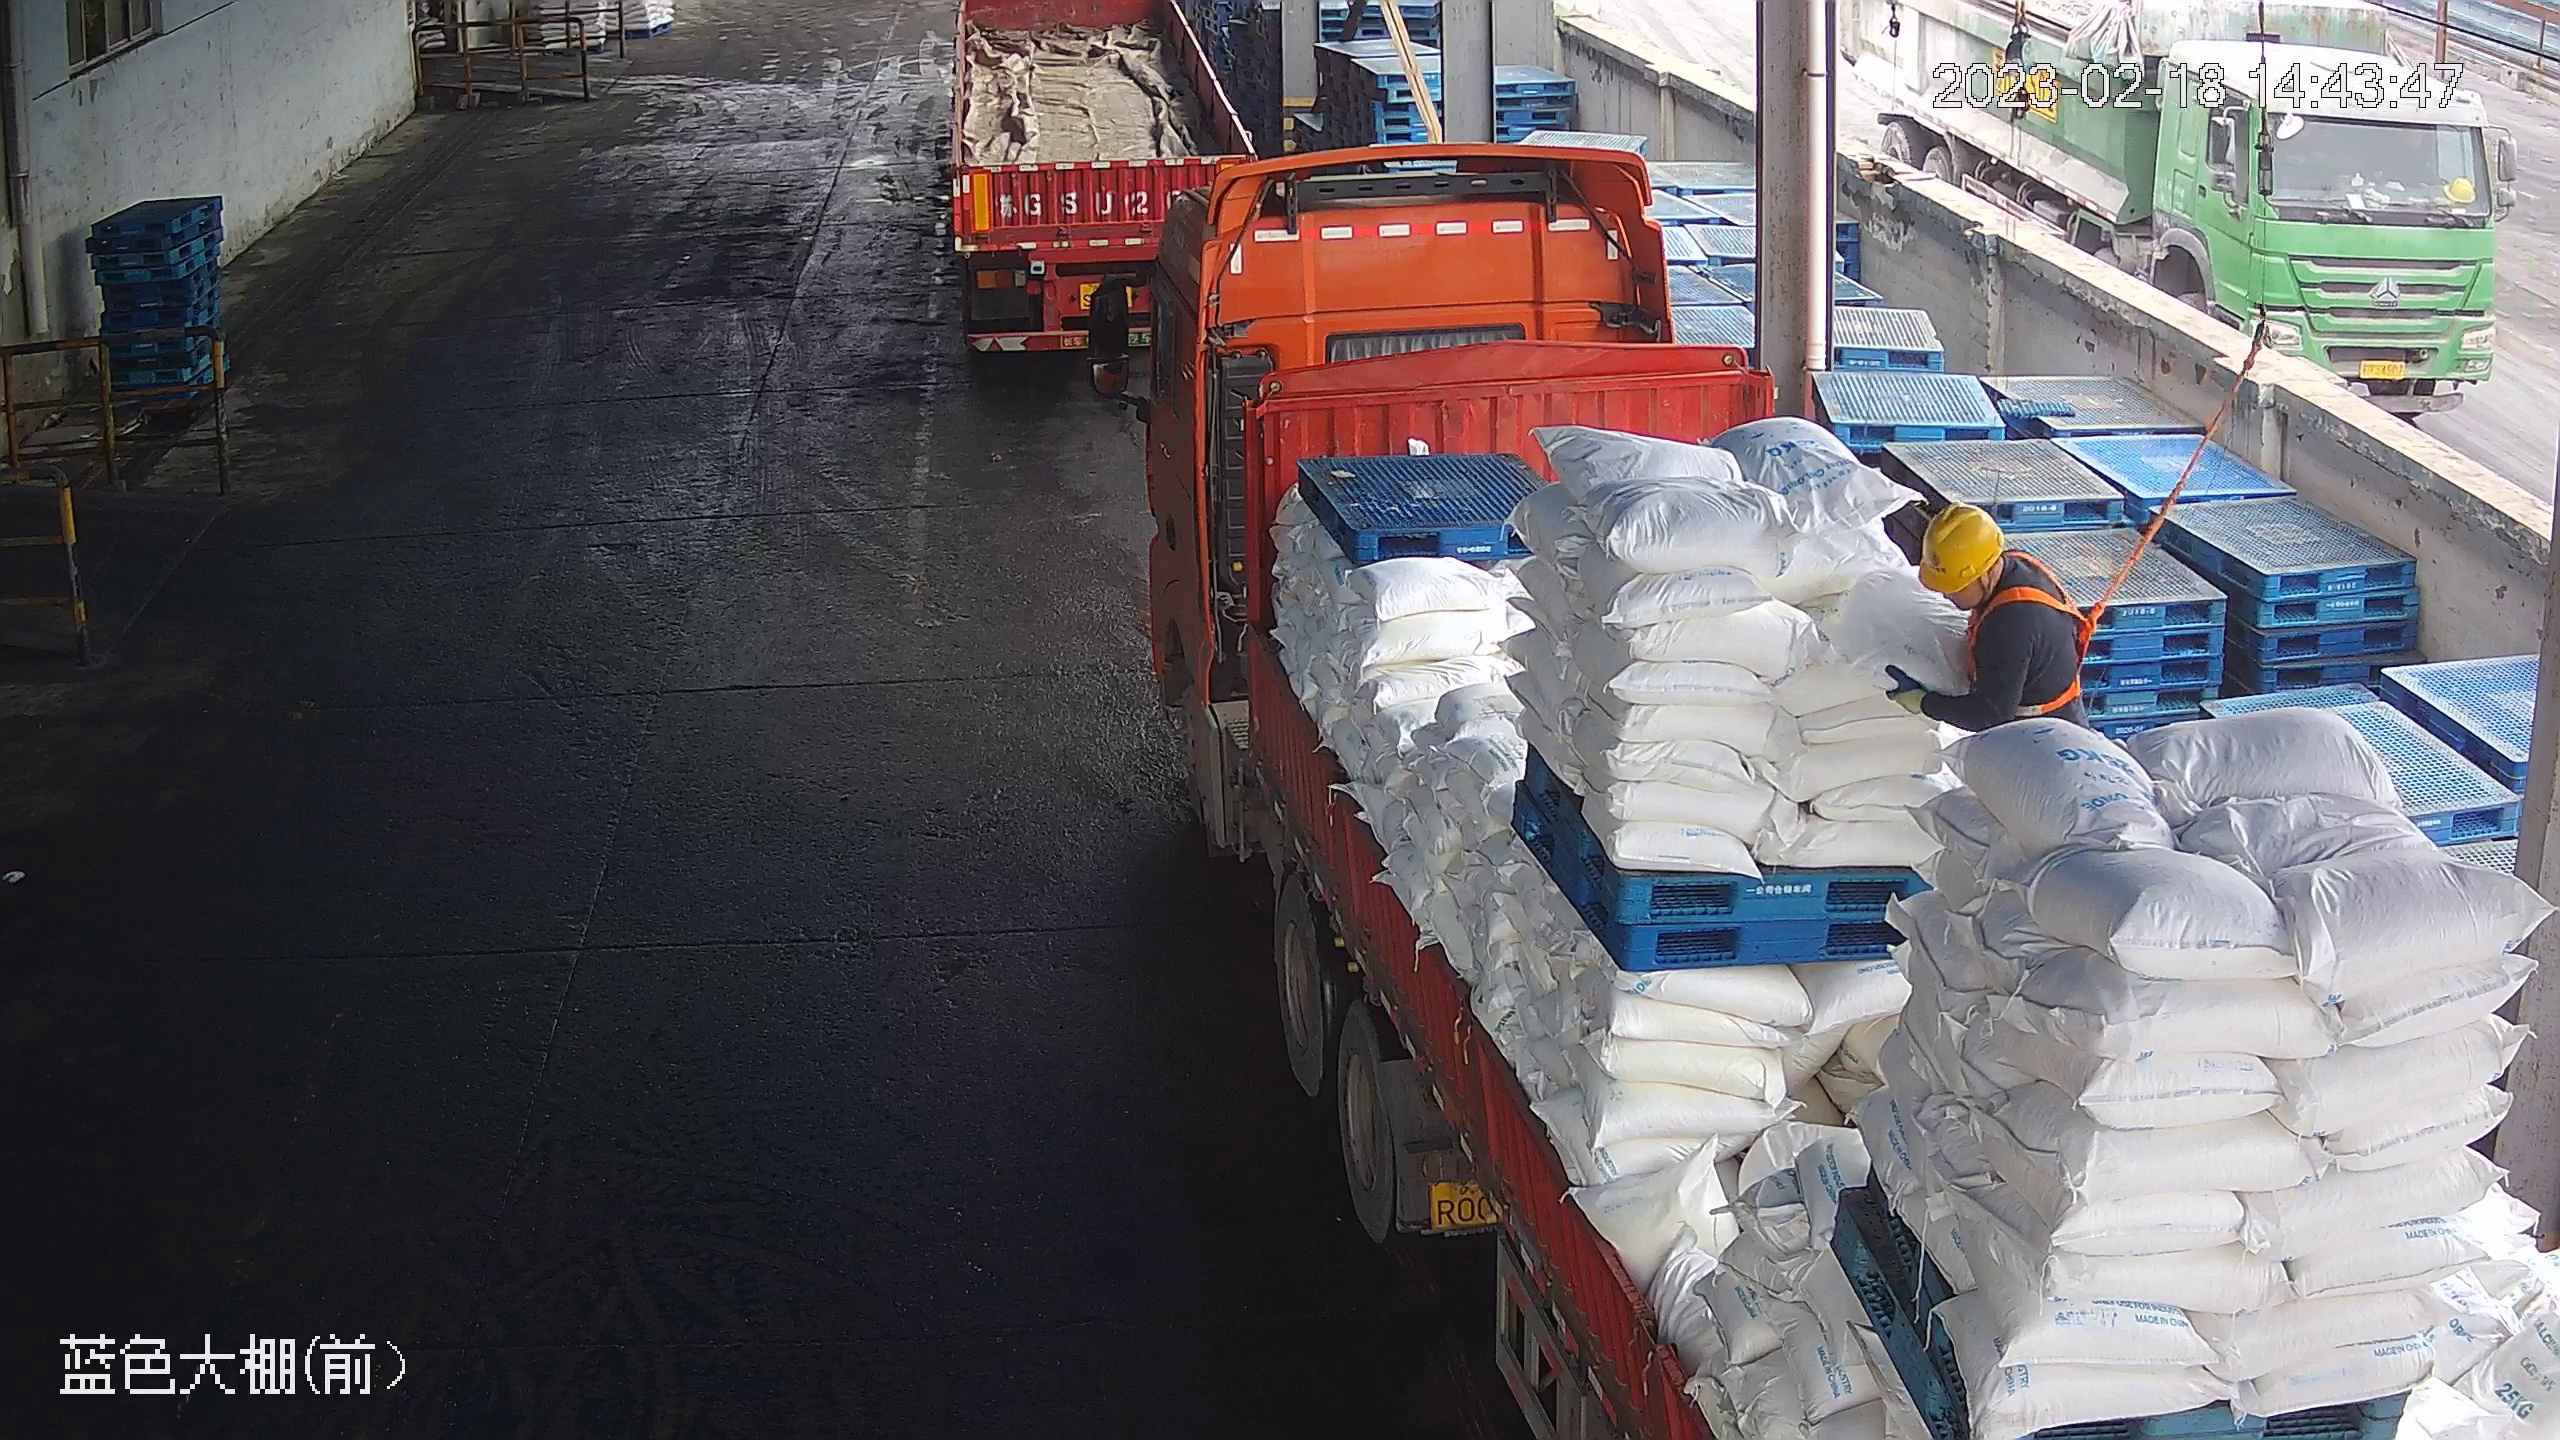belt: (1977, 566, 2098, 721)
head: (1899, 501, 2078, 668)
helmet: (1908, 500, 2010, 588)
truck: (1082, 141, 2551, 1435), (948, 1, 1262, 355)
